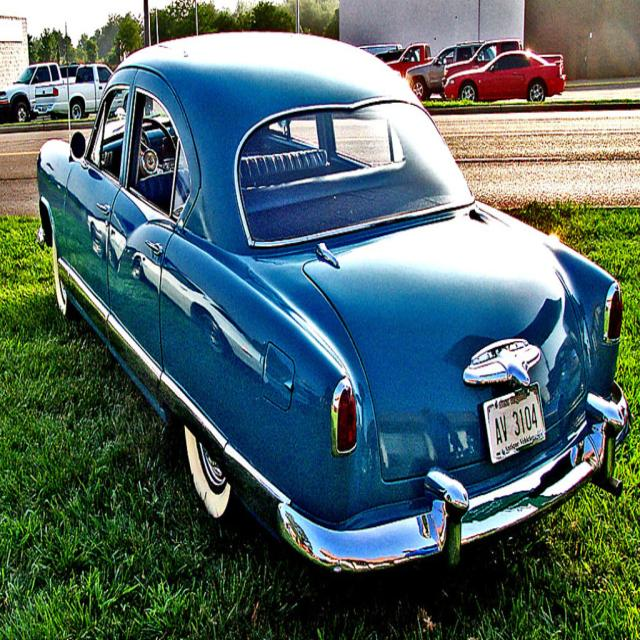car: (36, 16, 630, 586)
